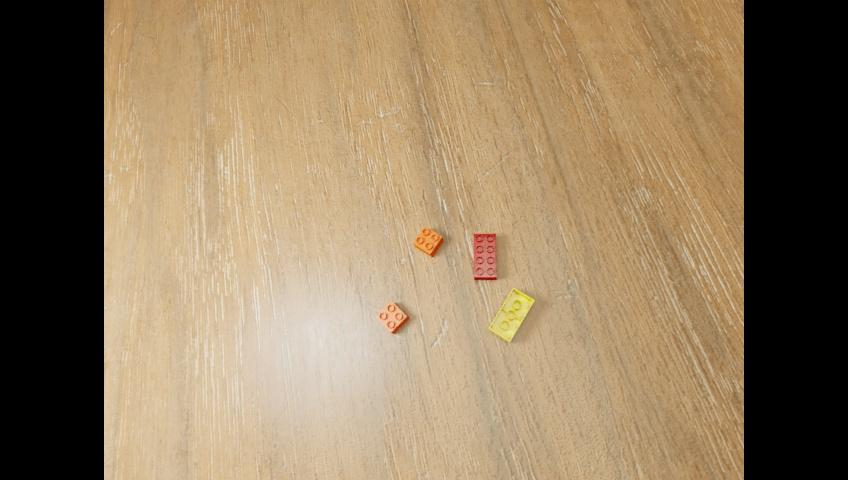2x2_orange: (376, 300, 408, 333), (414, 225, 442, 257)
4x2_red: (473, 233, 495, 279)
4x2_yellow: (488, 287, 533, 341)
